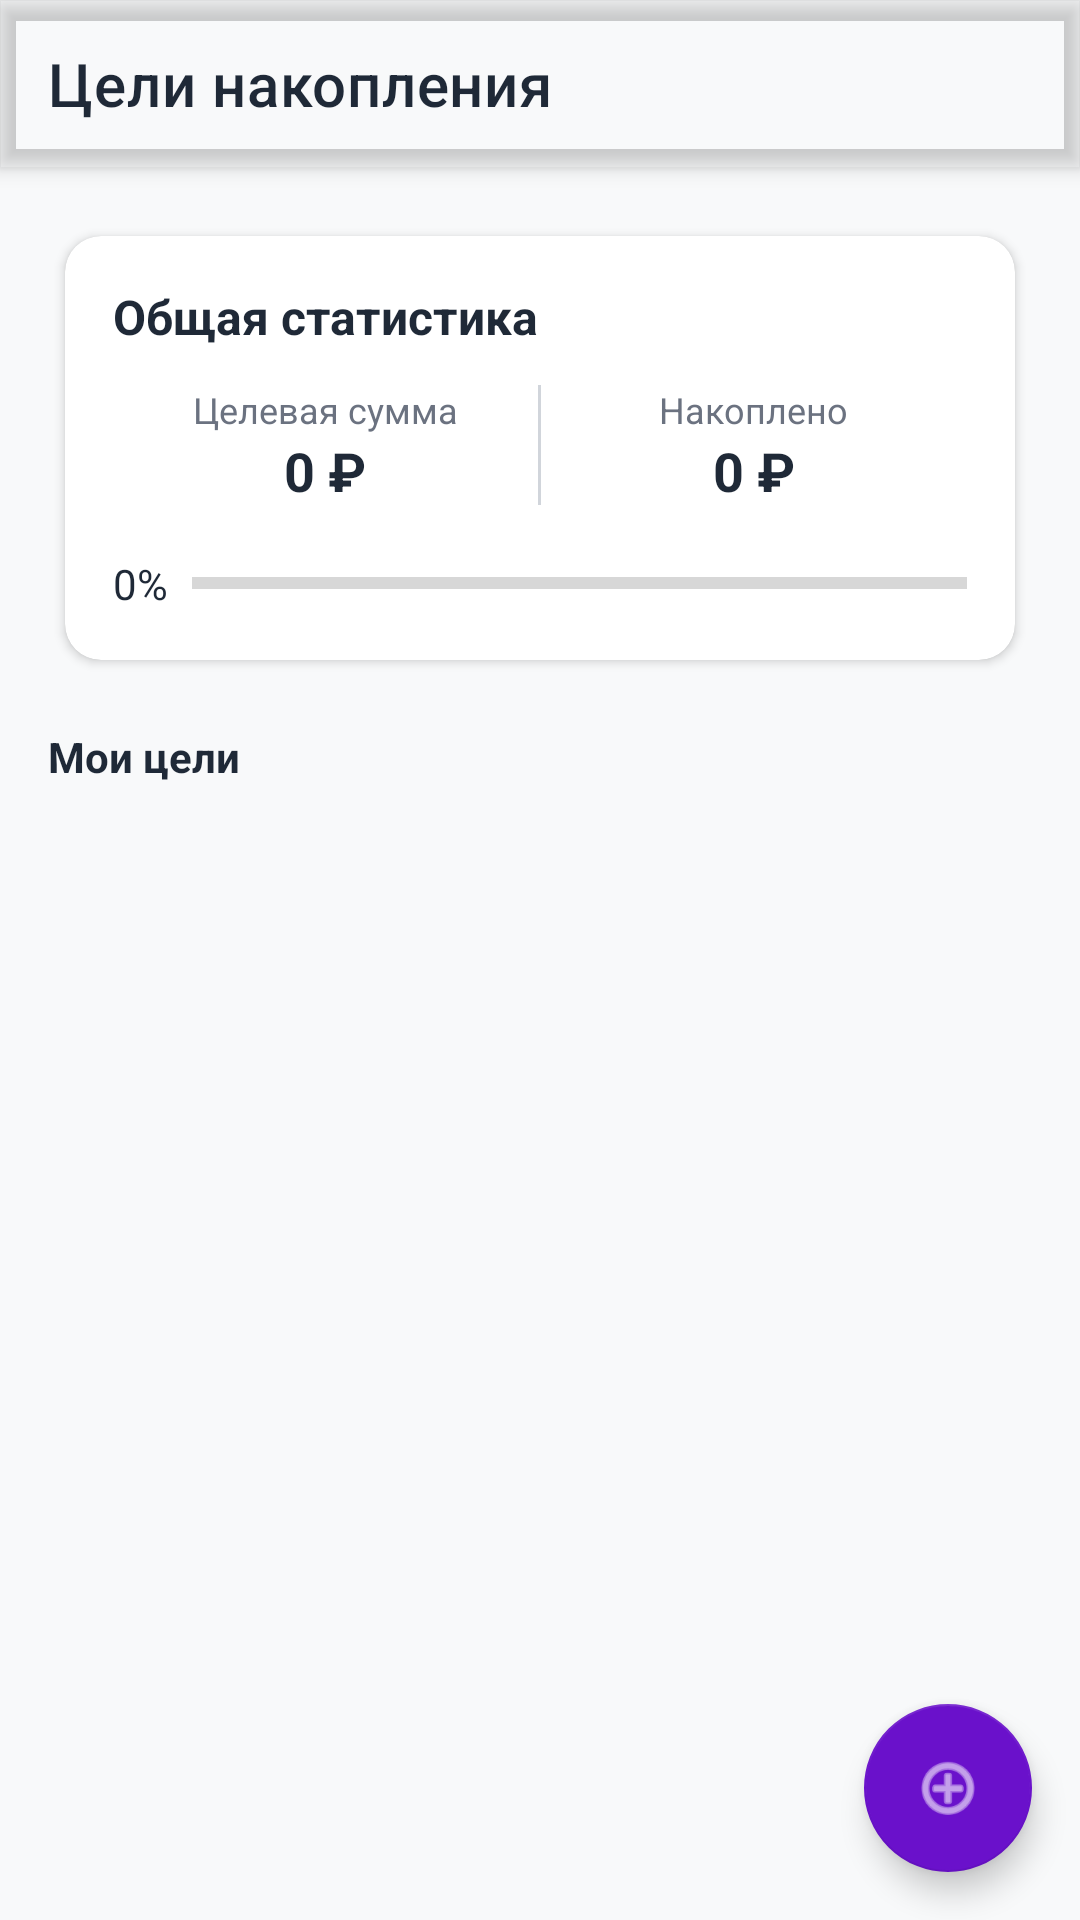

Icon click points for this 1080 × 1920 phone screenshot, format point (x, y):
Добавить цель накопления: point (948, 1788)
